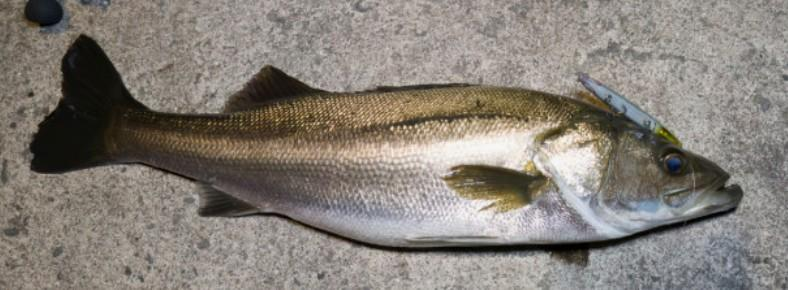fish: (30, 35, 742, 261)
